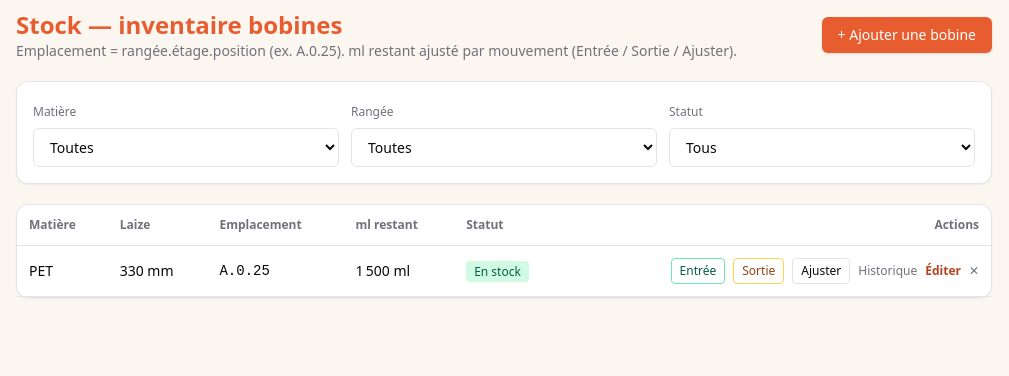
it: StockPage — inventaire bobines › S2 : historique des mouvements par bobine (tri date desc)
expect the row with test id "stock-row-10" is shown: met, box [17,246,991,296]
Step 1. Click the button with test id "hist-10" → {"x": 888, "y": 271}, box [858,263,917,279]
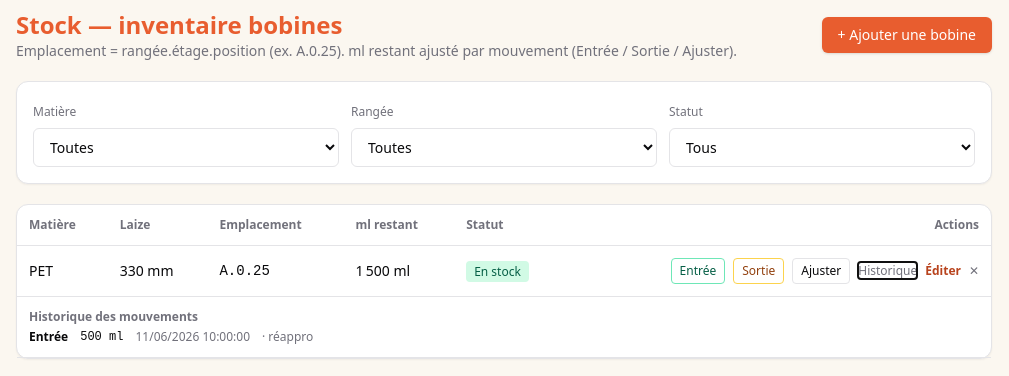
expect the row with test id "hist-row-10" shows "Entrée": met, box [29,328,68,345]
expect the row with test id "hist-row-10" shows "500 ml": met, box [17,296,991,358]
